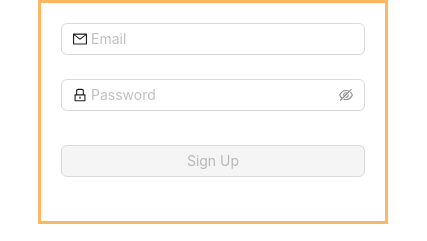
Test: SignUpPage › displays EN error notification when signUp function throws an error
Type "test@example.com" into the field with placeholder "Email" at (222, 39), box left=91, top=28, right=353, bottom=50
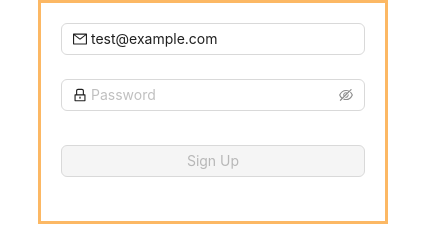
Type "password123!" into the password field with placeholder "Password" at (213, 95), box left=91, top=84, right=335, bottom=106
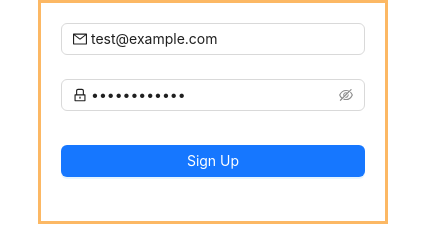
Click the button with test id "submit" at (213, 161), box left=61, top=145, right=365, bottom=177
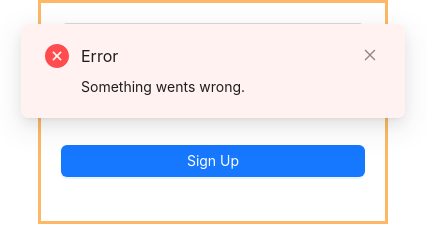
Now the text "Error" is shown, box left=81, top=46, right=118, bottom=66
